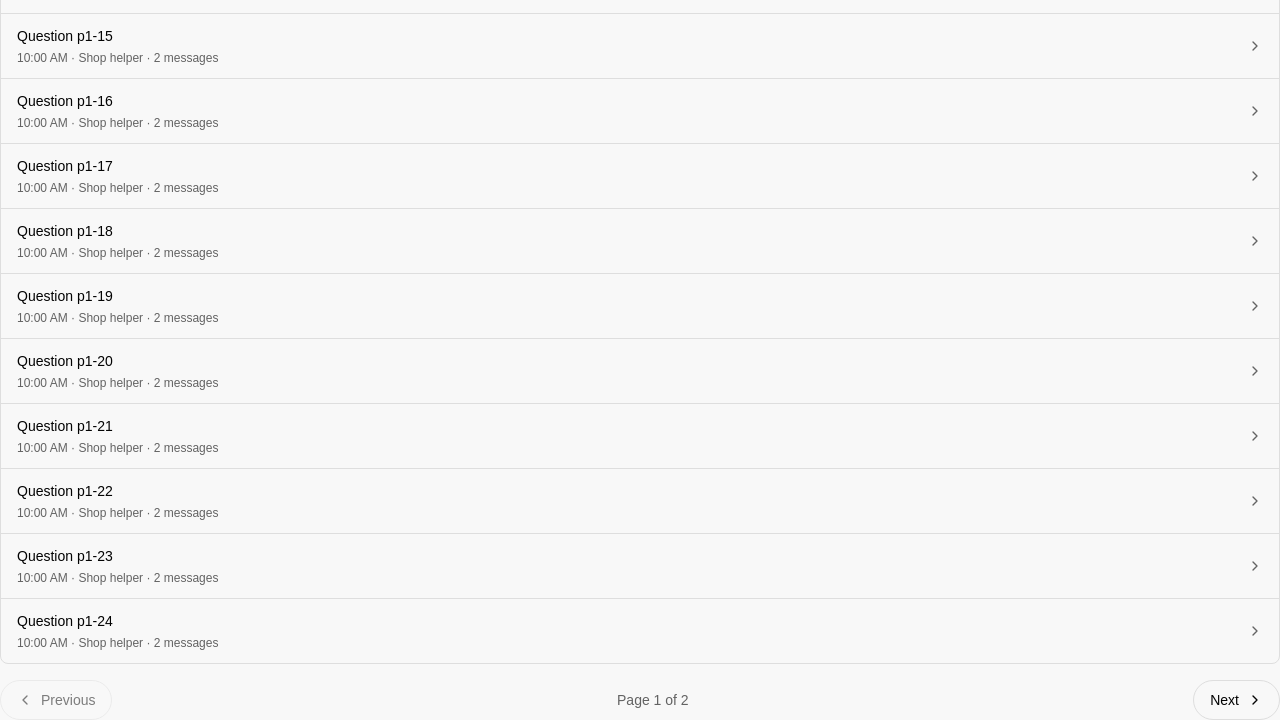
Test case: ConversationsPage › pages through conversations and keeps the filters in each transcript link
(page scrolled)
Check: the button "Previous" is disabled, box [0, 680, 112, 719]
Click the button "Next" at (1237,700), box [1193, 680, 1279, 719]
(page scrolled)
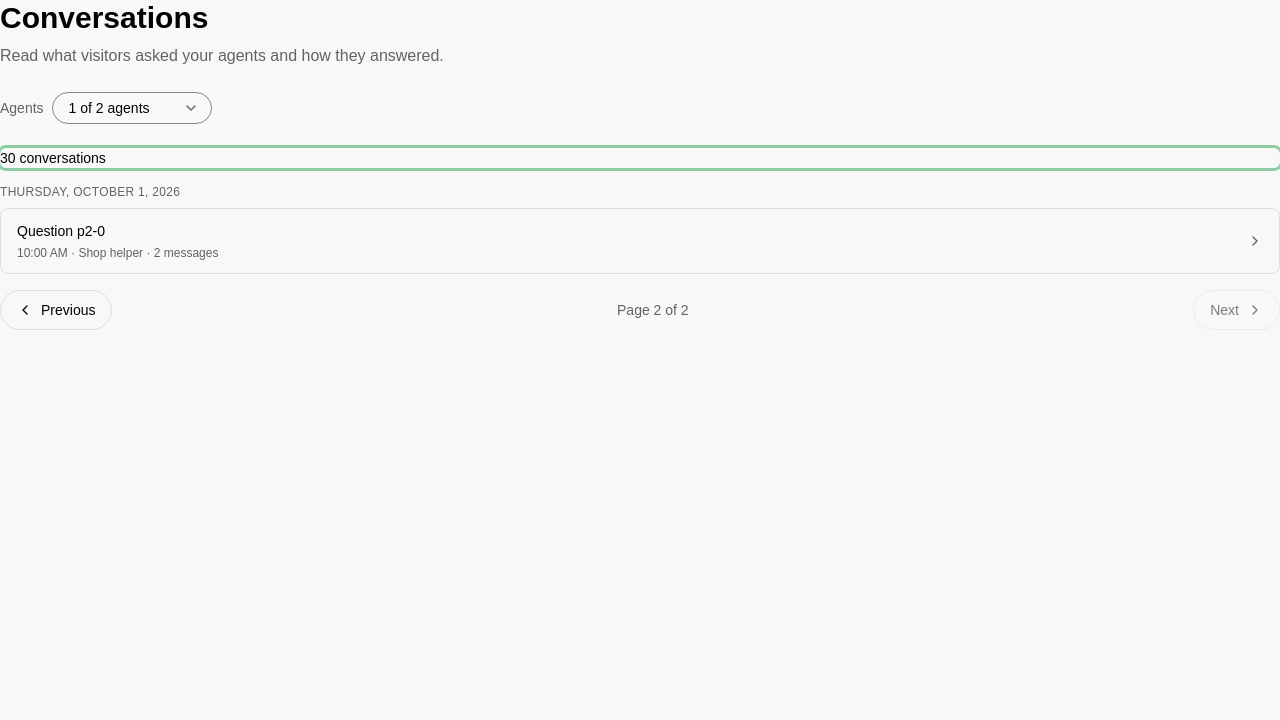
Check: the number of list items is 1, box [17, 223, 1263, 260]
